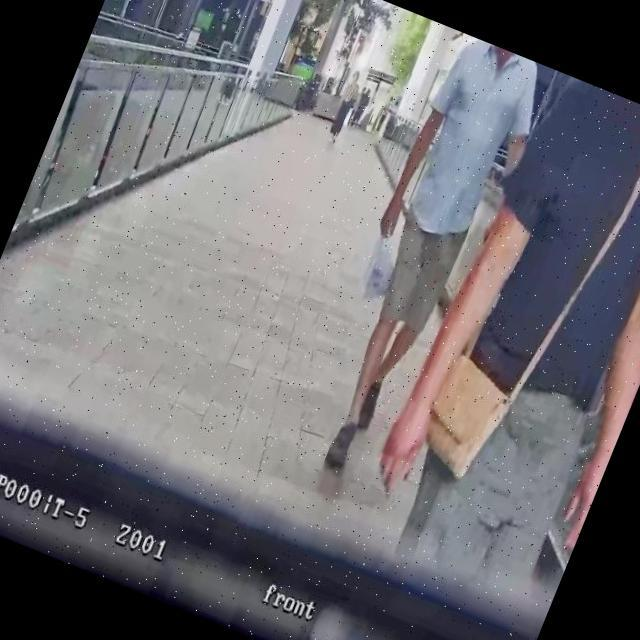person: (353, 62, 640, 595), (286, 30, 556, 490), (324, 68, 366, 142), (347, 83, 374, 130)
